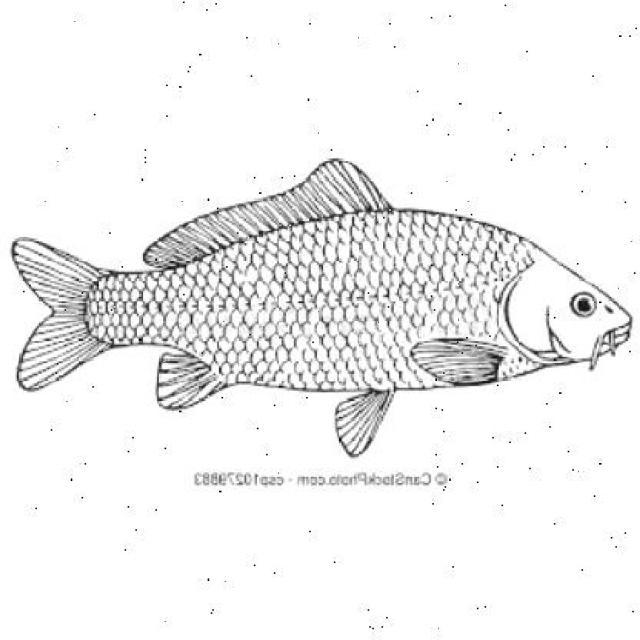ikan-mas: (31, 175, 631, 432)
